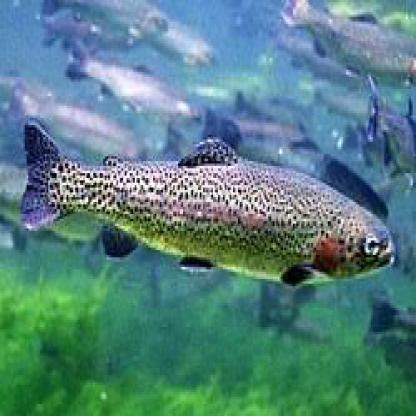fish: (17, 120, 398, 290)
